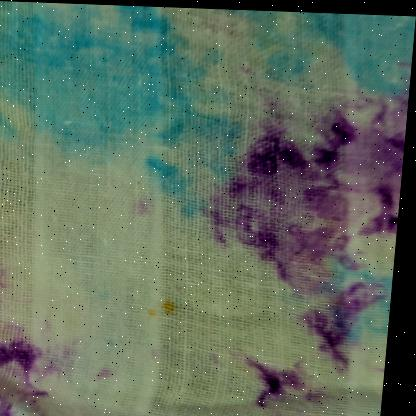spot: (141, 295, 190, 322)
